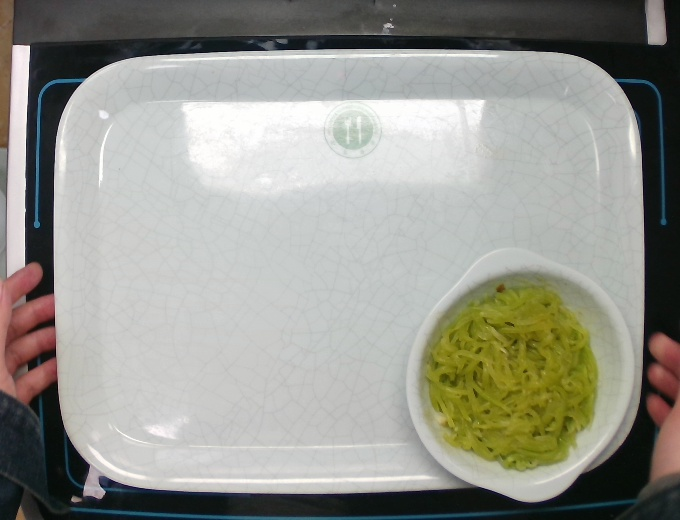JYsf-Shuang_Er_Wan: (404, 241, 637, 504)
